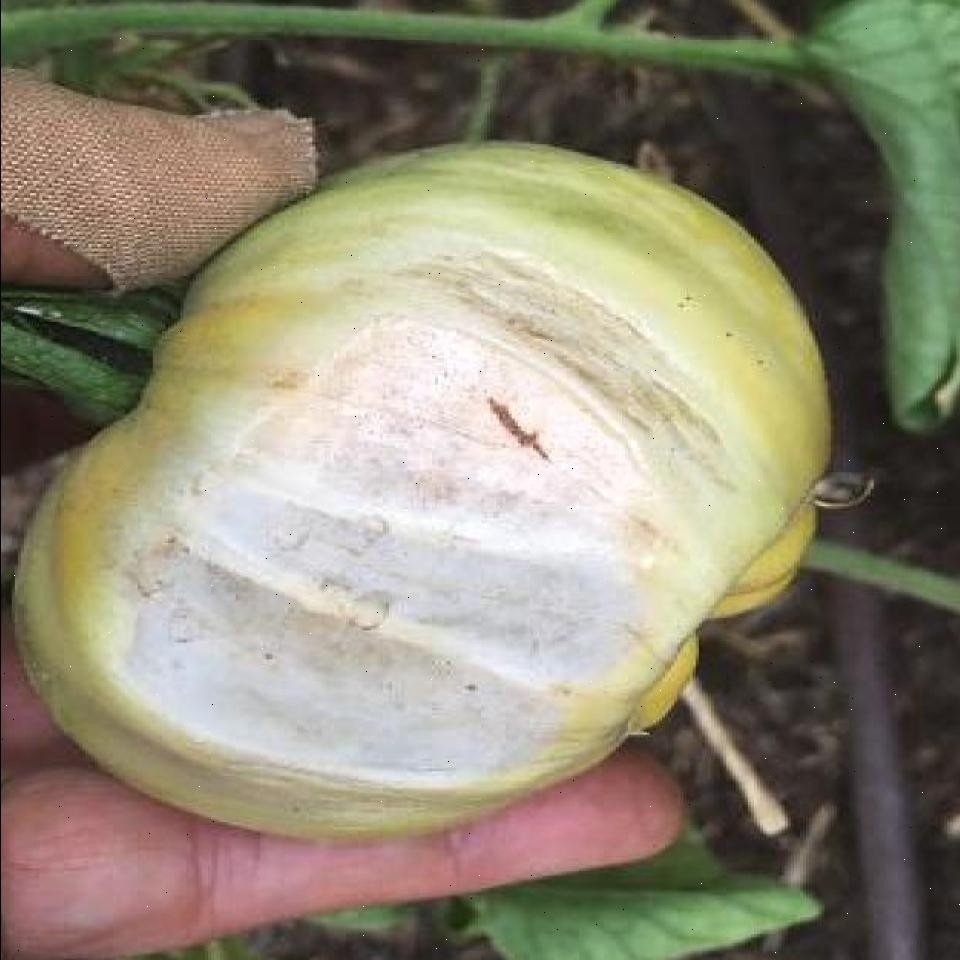Sunscald: (87, 213, 766, 773)
